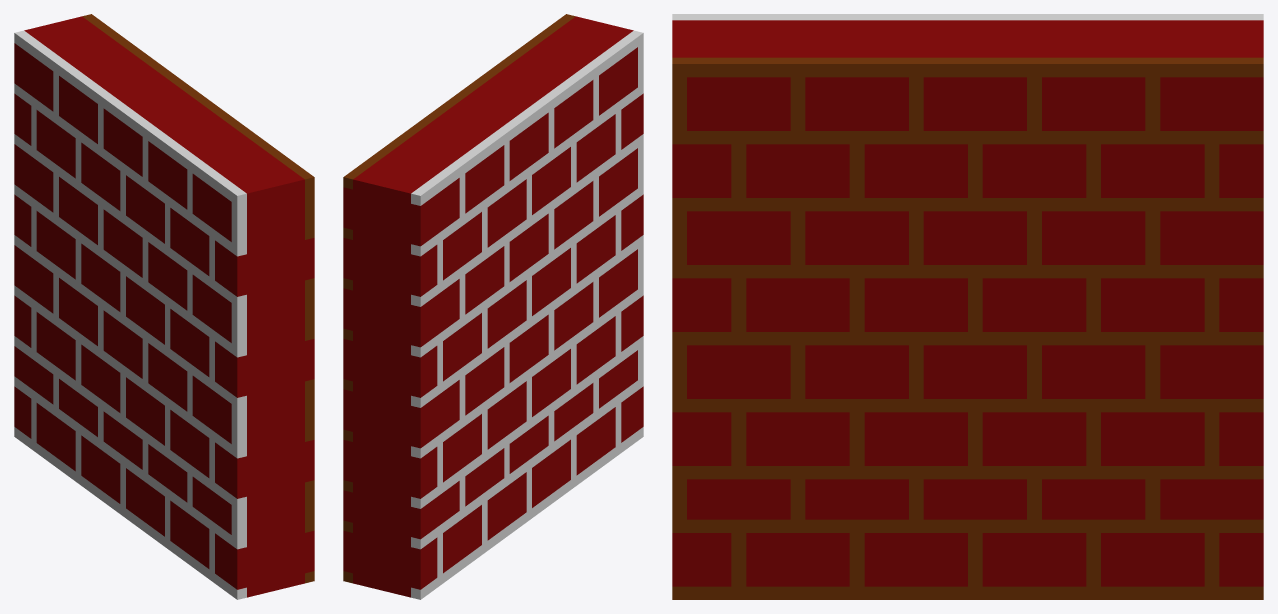
File: wall1.obj
3 renders of one model, left to right at view 1: azimuth 30°, elevation 25°; view 2: azimuth 150°, elevation 25°; view 3: azimuth 270°, elevation 25°, orthographic. The views are drawn at different scales.
Size of the model in its own units: 0.8 by 4 by 4.
1 material, 1 textured.
